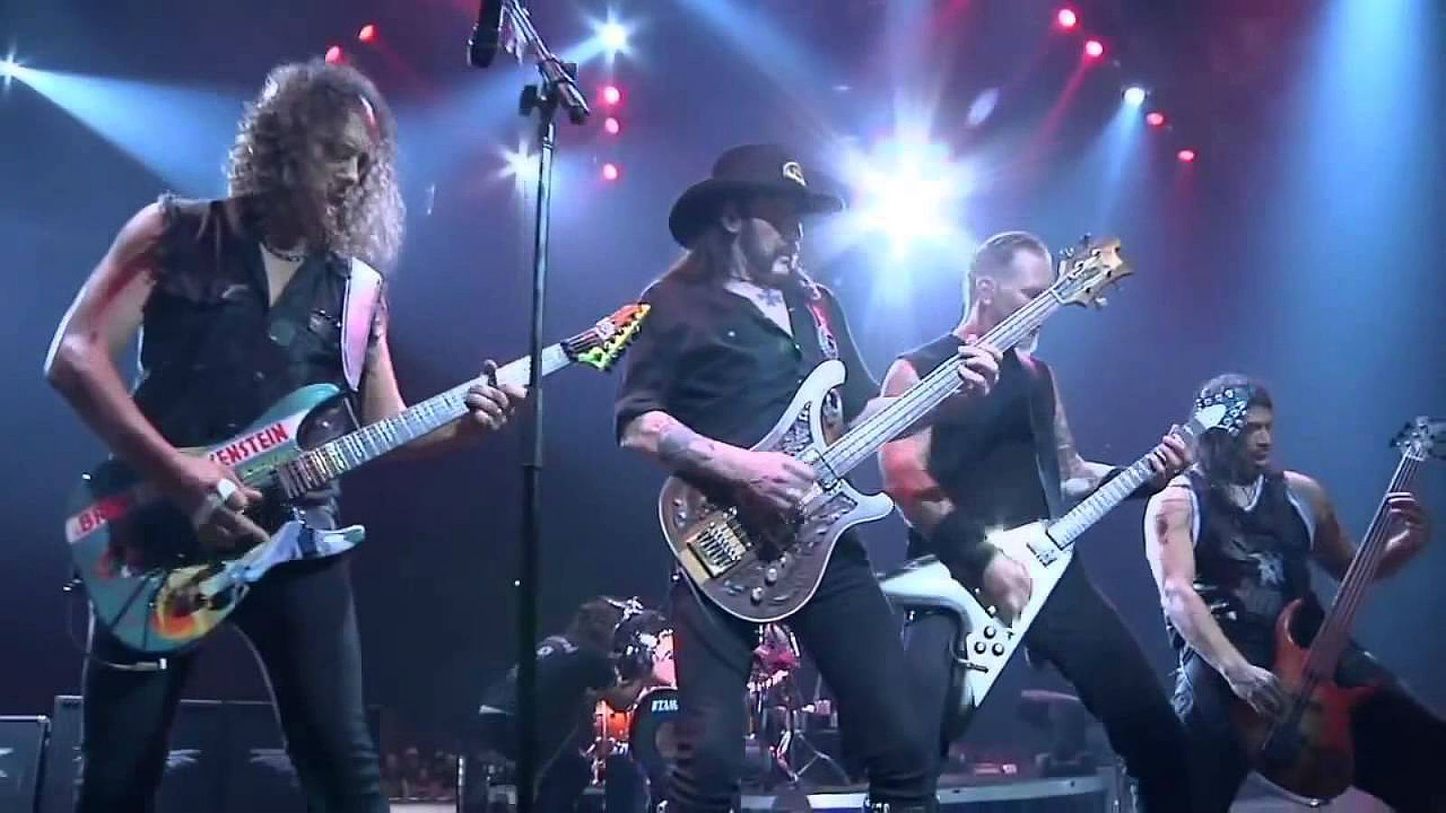acousticguitar: (62, 302, 657, 664), (655, 238, 1124, 626), (878, 381, 1251, 694), (1224, 420, 1440, 800)
